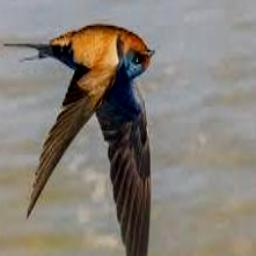Swallow: (3, 26, 156, 256)
